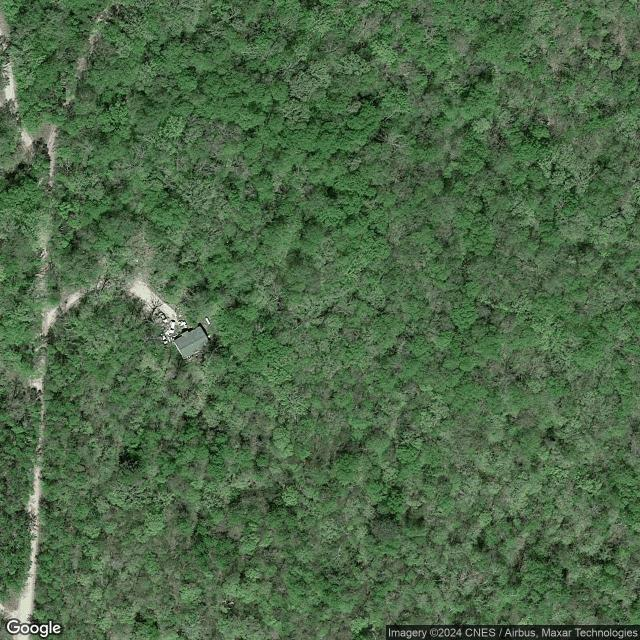Propane: (205, 316, 211, 325)
